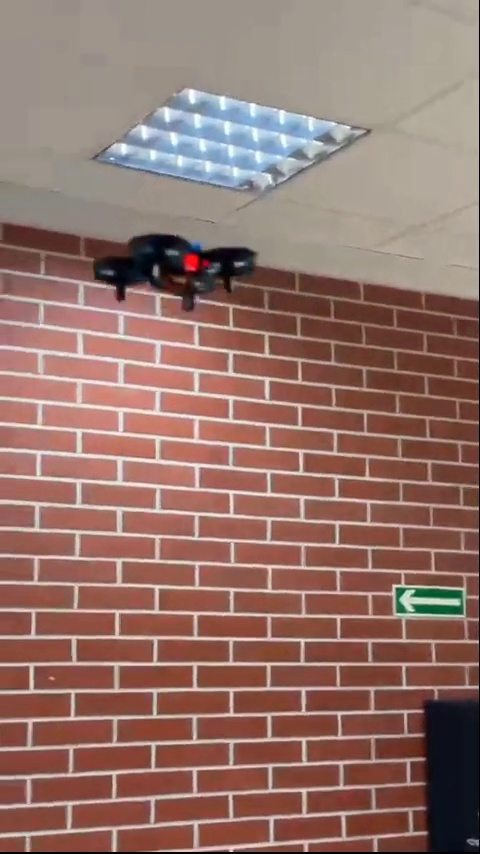drone: (95, 234, 262, 312)
